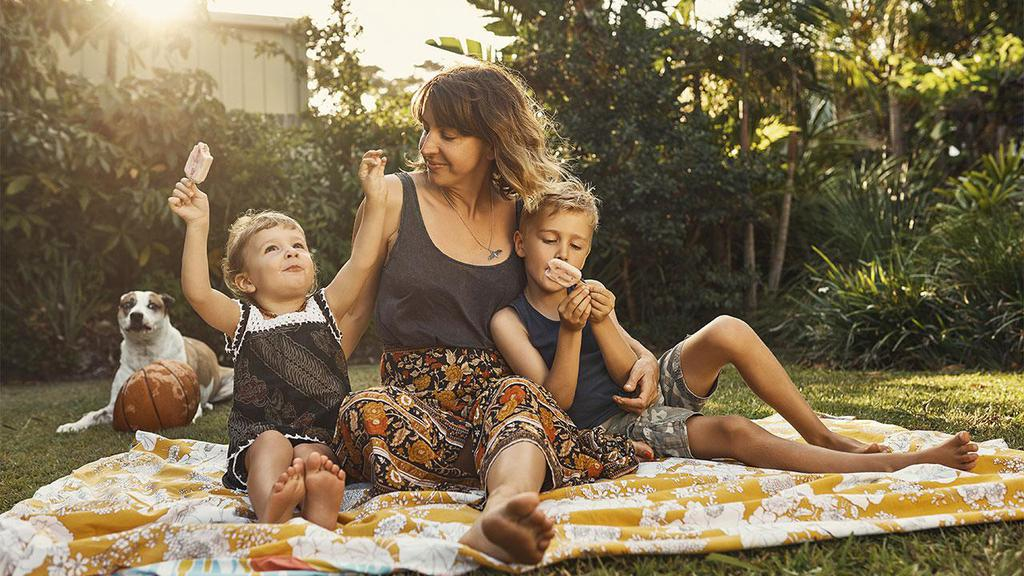child: (165, 167, 390, 526)
